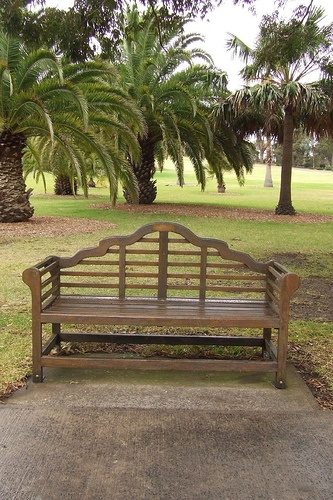Bench: (16, 194, 318, 425)
